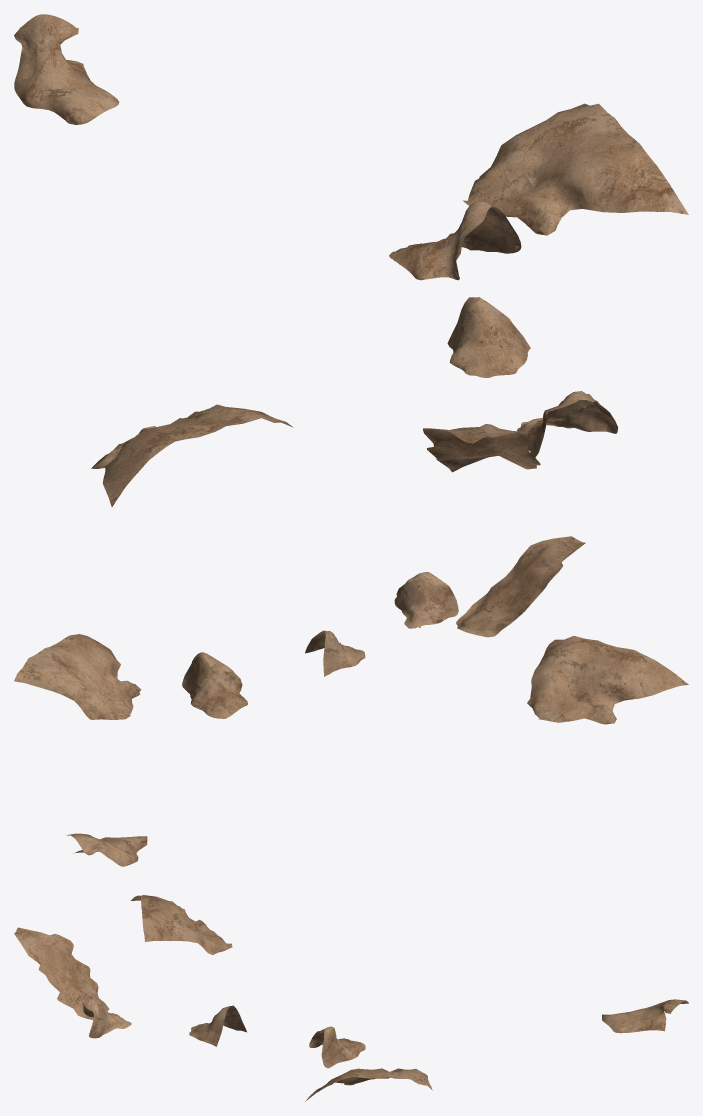
Rendered from Landslides.fbx.
3 renders of one model, top to bottom at view 1: azimuth 30°, elevation 25°; view 2: azimuth 150°, elevation 25°; view 3: azimuth 270°, elevation 25°, orthographic. The views are drawn at different scales.
Parts seen in each view (by area): view 1: Landslide.007, Landslide.006, Landslide.004, Plane.005, Plane.003, Landslide.005, Plane.004; view 2: Landslide.004, Landslide.007, Landslide.005, Plane.003, Plane.004, Landslide.006, Plane.005; view 3: Landslide.005, Landslide.004, Landslide.006, Plane.003, Landslide.007, Plane.005, Plane.004.
Boxes of the visible parts, x1=… form: Landslide.007: x1=462, y1=103, x2=688, y2=235; Landslide.006: x1=14, y1=14, x2=119, y2=124; Landslide.004: x1=91, y1=404, x2=293, y2=506; Plane.005: x1=447, y1=297, x2=530, y2=377; Plane.003: x1=389, y1=200, x2=521, y2=280; Landslide.005: x1=423, y1=424, x2=540, y2=472; Plane.004: x1=517, y1=391, x2=617, y2=457; Landslide.004: x1=527, y1=636, x2=688, y2=724; Landslide.007: x1=14, y1=634, x2=141, y2=719; Landslide.005: x1=456, y1=536, x2=585, y2=637; Plane.003: x1=182, y1=652, x2=247, y2=718; Plane.004: x1=394, y1=572, x2=458, y2=628; Landslide.006: x1=66, y1=833, x2=147, y2=866; Plane.005: x1=305, y1=630, x2=365, y2=676; Landslide.005: x1=14, y1=927, x2=109, y2=1019; Landslide.004: x1=130, y1=895, x2=232, y2=954; Landslide.006: x1=602, y1=999, x2=688, y2=1033; Plane.003: x1=309, y1=1026, x2=365, y2=1068; Landslide.007: x1=305, y1=1068, x2=432, y2=1101; Plane.005: x1=189, y1=1005, x2=246, y2=1046; Plane.004: x1=83, y1=996, x2=131, y2=1038.
Bounding box in the file's own units: 5910 × 795 × 8342.
